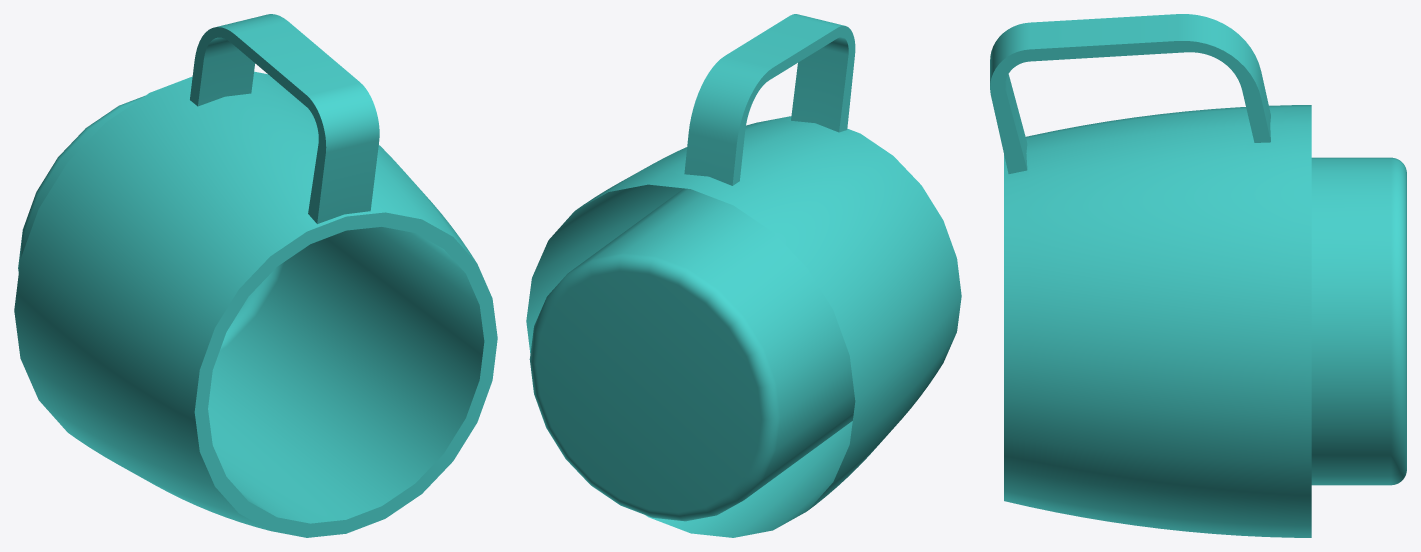
3 views of the same model, side by side, from view 1: azimuth 30°, elevation 25°; view 2: azimuth 150°, elevation 25°; view 3: azimuth 270°, elevation 25° (orthographic). The views are drawn at different scales.
Bounding box in the file's own units: 0.5183 × 0.6459 × 0.497.
